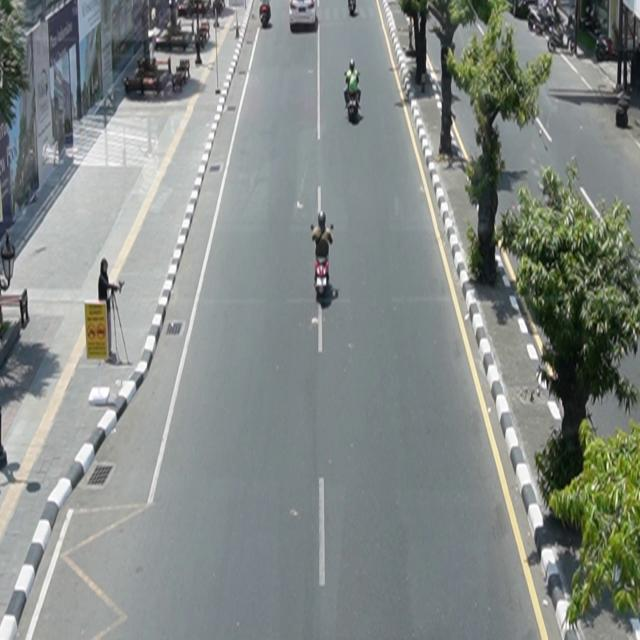car: (290, 1, 317, 30), (260, 2, 271, 27)
